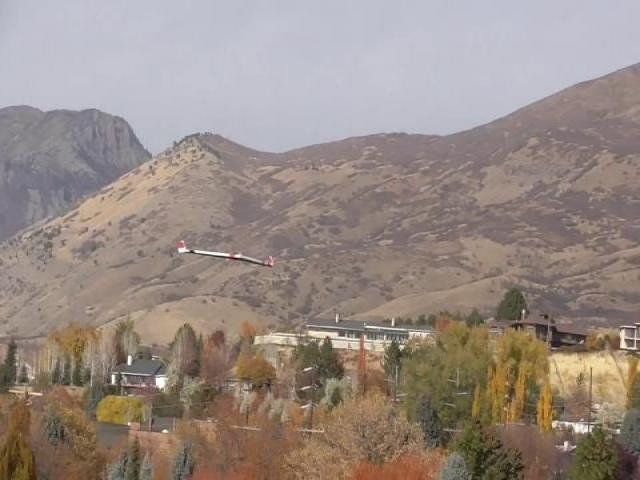flying wing: (176, 236, 275, 272)
